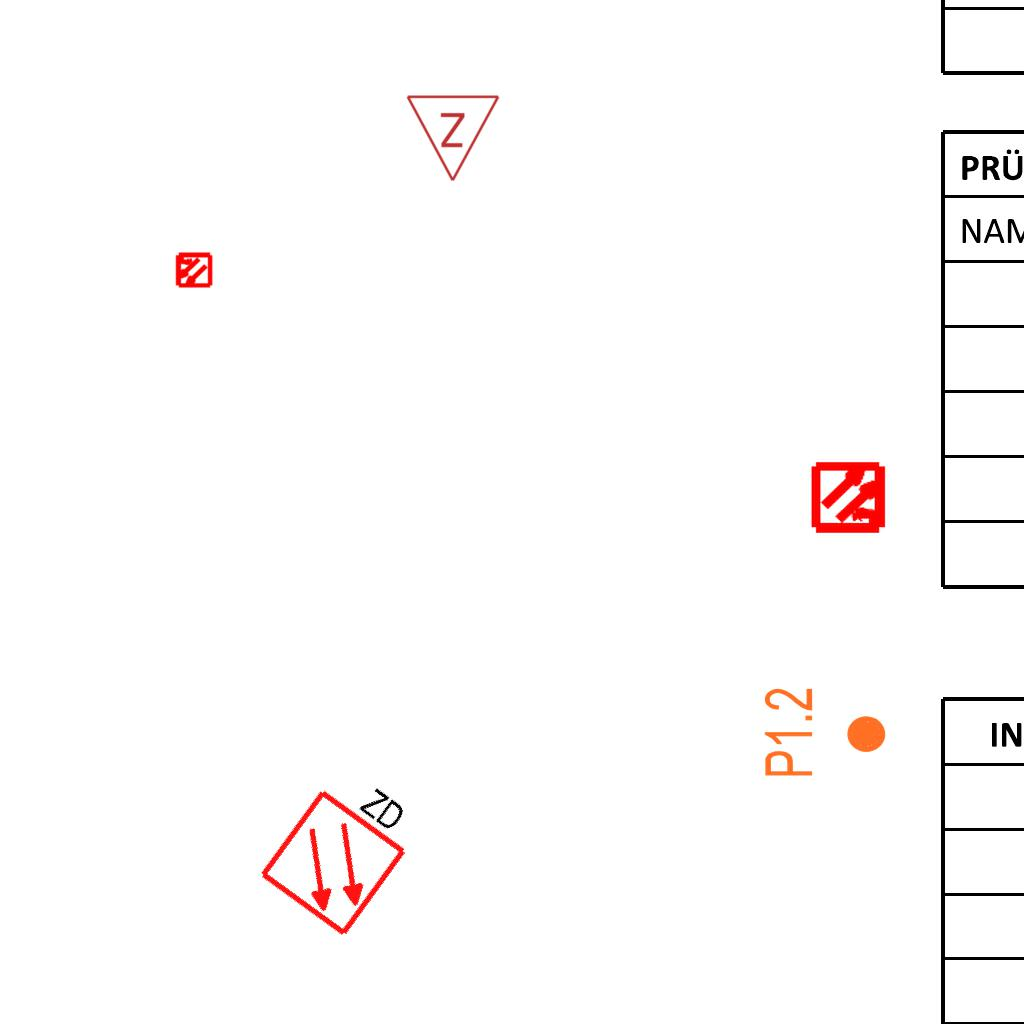Downlight_LED_Einbauleuchten_Flur: (761, 686, 889, 779)
OT_Multisensormelder_(Kombination_RMO_WMD): (794, 441, 907, 554), (165, 242, 221, 298)
ZD_Melder_in_Zwischendecke_mit_Revisionsoeffnung_mind_40_x_40_cm: (253, 752, 433, 941)
Zimmersignalleuchte: (405, 88, 503, 188)
